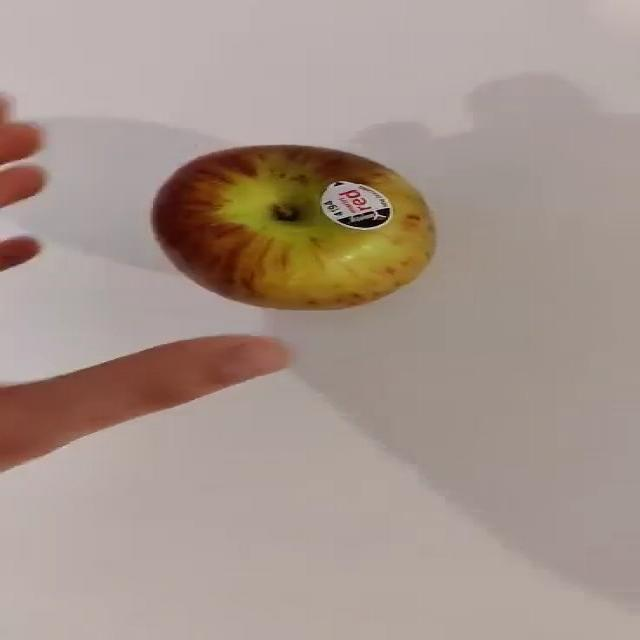Apple: (150, 143, 436, 311)
